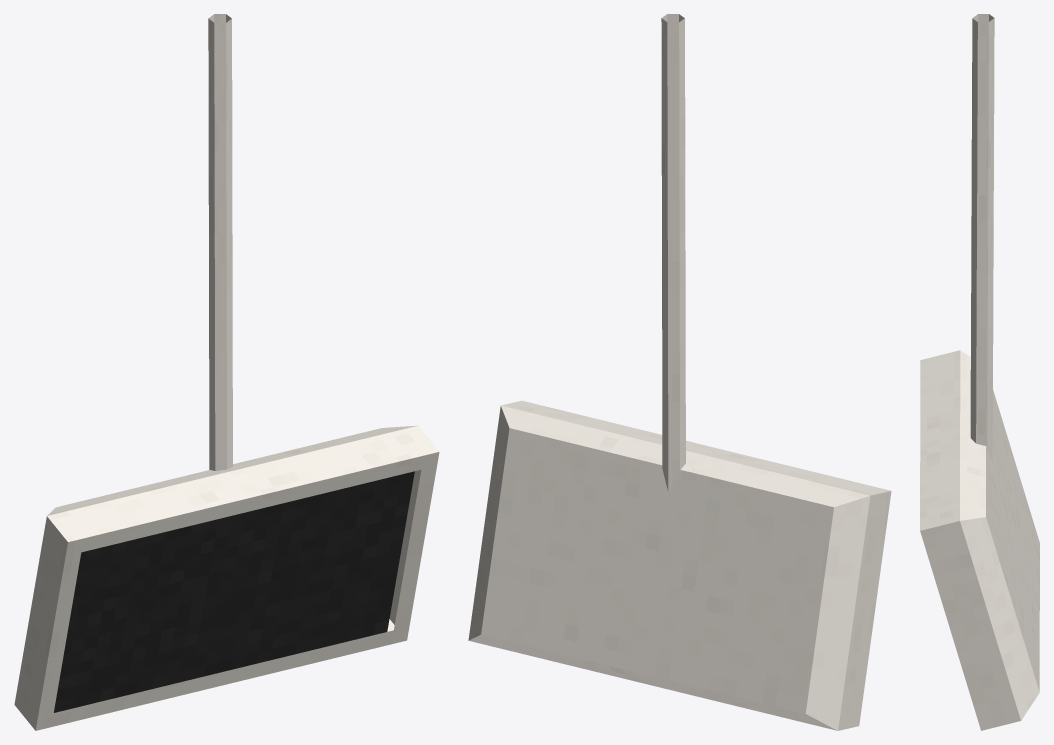
3 renders of one model, left to right at view 1: azimuth 30°, elevation 25°; view 2: azimuth 150°, elevation 25°; view 3: azimuth 270°, elevation 25°, orthographic. The views are drawn at different scales.
Visible parts, largest first — view 1: cv; view 2: cv; view 3: cv.
Part boxes in pixels (x1,y1,x2,y2): cv: [14, 14, 439, 730]; cv: [468, 14, 891, 730]; cv: [920, 14, 1039, 730].
Size of the model in its own units: 262 by 449 by 77.71.
